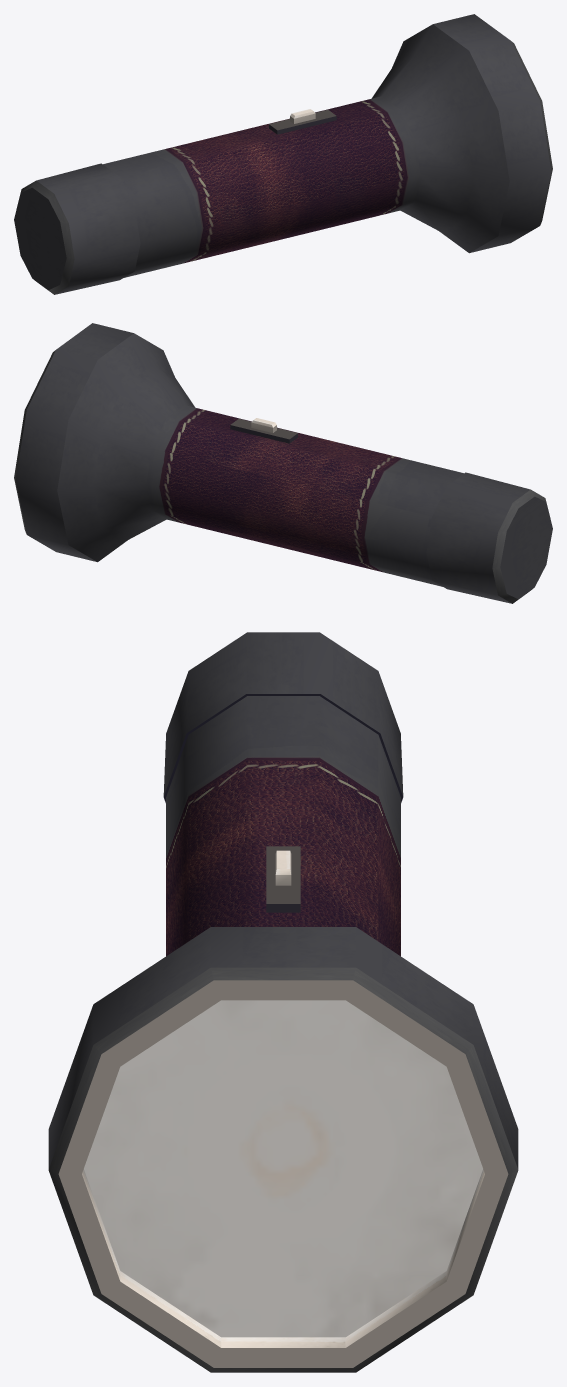
The model's file is flashlight.glb.
The picture shows the model from 3 angles, top to bottom: view 1: azimuth 30°, elevation 25°; view 2: azimuth 150°, elevation 25°; view 3: azimuth 270°, elevation 25°; orthographic projection. The views are drawn at different scales.
Visible parts, largest first — view 1: flashLight, flashLightCover; view 2: flashLight, flashLightCover; view 3: flashLight, flashLightCover.
Part boxes in pixels (<box>): flashLight: <box>103,14,552,277</box>; flashLightCover: <box>14,163,140,294</box>; flashLight: <box>14,323,463,586</box>; flashLightCover: <box>426,472,552,603</box>; flashLight: <box>48,696,518,1372</box>; flashLightCover: <box>163,632,403,802</box>.
Bounding box in the file's own units: 4.49 × 1.9 × 2.
Materials: 1 (1 with a texture image).
